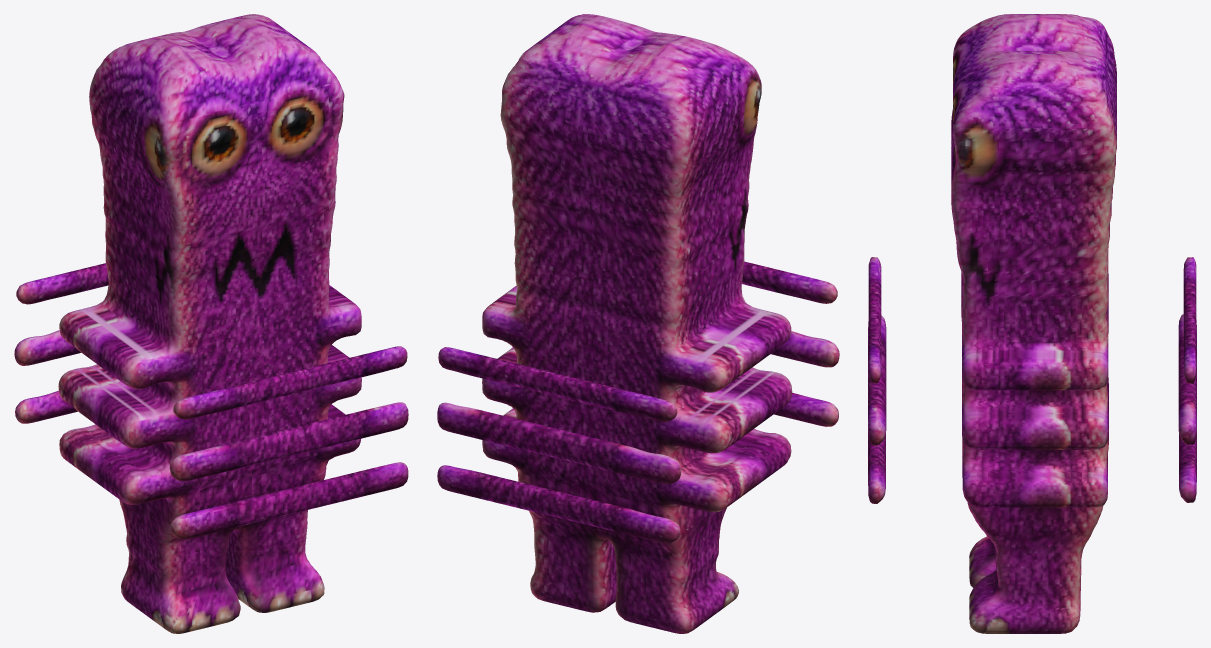
File: 05-paars-stekelig-monster.glb
The picture shows the model from 3 angles, left to right: view 1: azimuth 30°, elevation 25°; view 2: azimuth 150°, elevation 25°; view 3: azimuth 270°, elevation 25°; orthographic projection. The views are drawn at different scales.
Parts seen in each view (by area): view 1: 05-paars-stekelig-monster-voorkant-zijkant-achterkant; view 2: 05-paars-stekelig-monster-voorkant-zijkant-achterkant; view 3: 05-paars-stekelig-monster-voorkant-zijkant-achterkant.
Part boxes in pixels (x1,y1,x2,y2): 05-paars-stekelig-monster-voorkant-zijkant-achterkant: [14, 14, 408, 633]; 05-paars-stekelig-monster-voorkant-zijkant-achterkant: [437, 14, 839, 633]; 05-paars-stekelig-monster-voorkant-zijkant-achterkant: [868, 14, 1196, 633].
Bounding box in the file's own units: 1.06 × 2.36 × 1.25.
